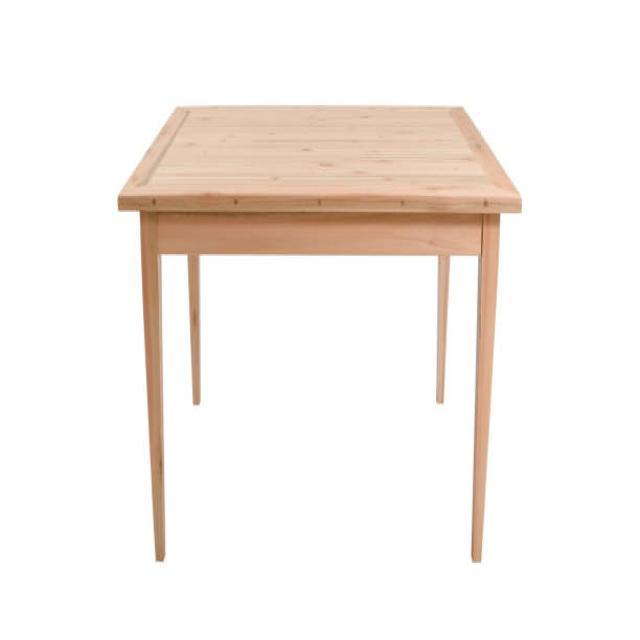table: (117, 102, 522, 563)
